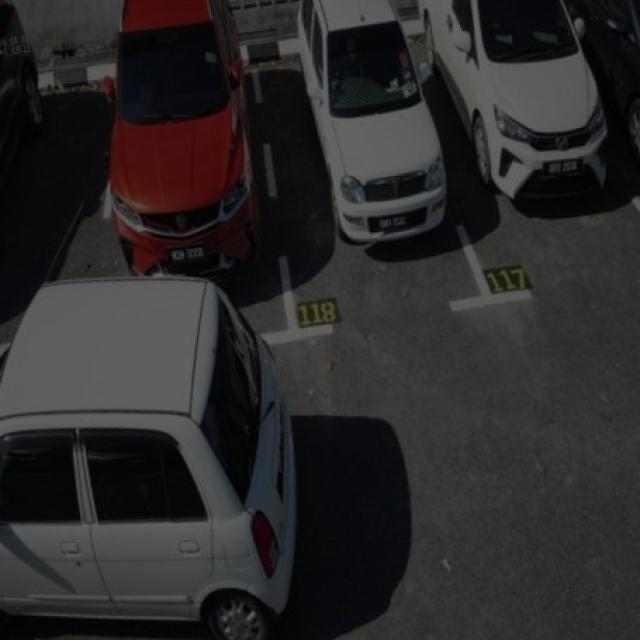Legalparking: (105, 0, 257, 274), (421, 0, 603, 194), (298, 0, 444, 241)
illegalparking: (0, 279, 297, 639)
